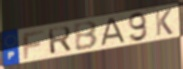9: (127, 11, 149, 42)
A: (98, 16, 128, 48)
B: (73, 19, 99, 52)
F: (22, 29, 45, 61)
K: (154, 8, 175, 37)
R: (46, 25, 73, 56)
